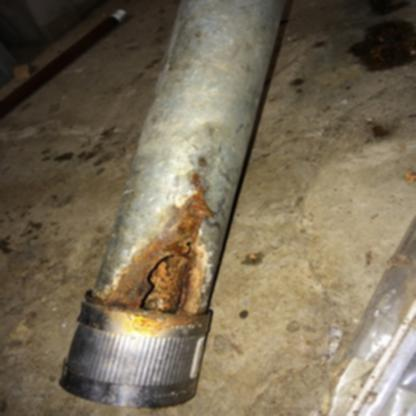burst: (137, 229, 212, 333)
